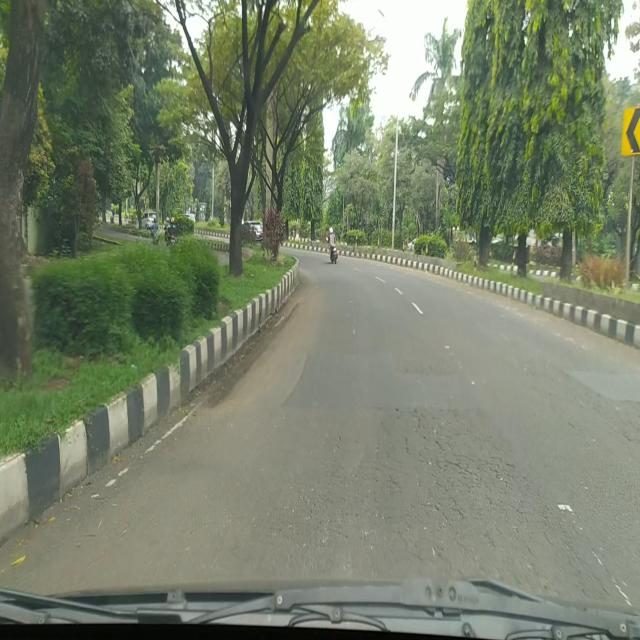Drain Hole: (407, 408, 591, 577)
